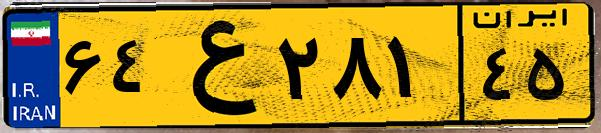1: (385, 28, 445, 110)
2: (270, 28, 330, 110)
4: (475, 38, 525, 113), (110, 28, 158, 98)
5: (525, 38, 570, 115)
6: (57, 26, 110, 100)
8: (330, 28, 385, 110)
ع: (158, 12, 270, 120)
